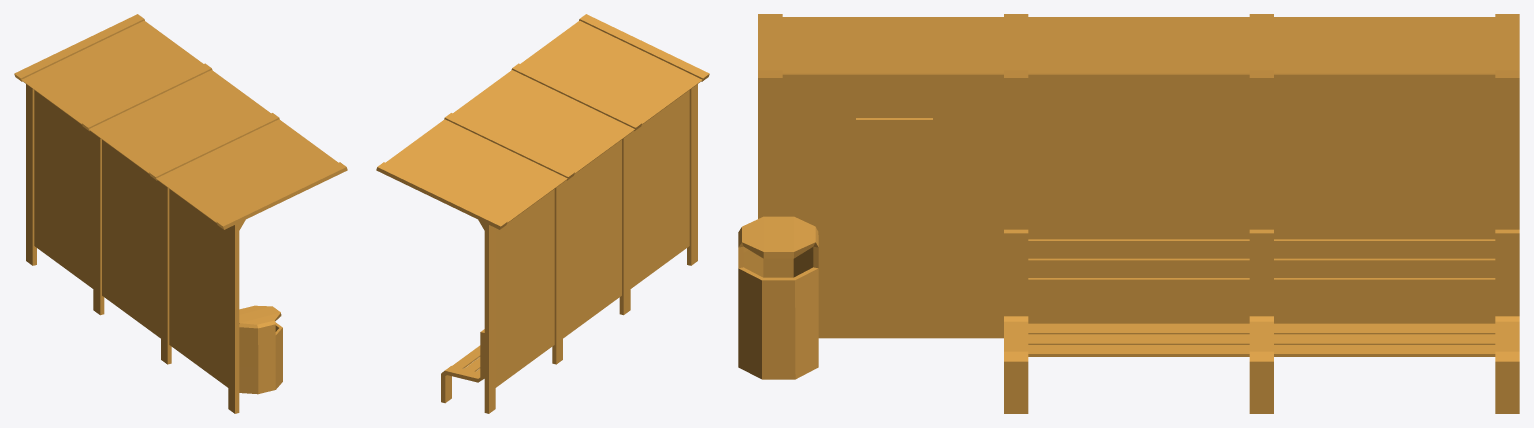
File: BusStop.fbx
3 renders of one model, left to right at view 1: azimuth 30°, elevation 25°; view 2: azimuth 150°, elevation 25°; view 3: azimuth 270°, elevation 25°, orthographic. The views are drawn at different scales.
Parts seen in each view (by area): view 1: bus-stop; view 2: bus-stop; view 3: bus-stop.
Part boxes in pixels (box(x1,y1,x2,y2)): bus-stop: box(14, 14, 347, 413); bus-stop: box(376, 14, 709, 413); bus-stop: box(738, 14, 1519, 413).
Size of the model in its own units: 293 by 493 by 872.
